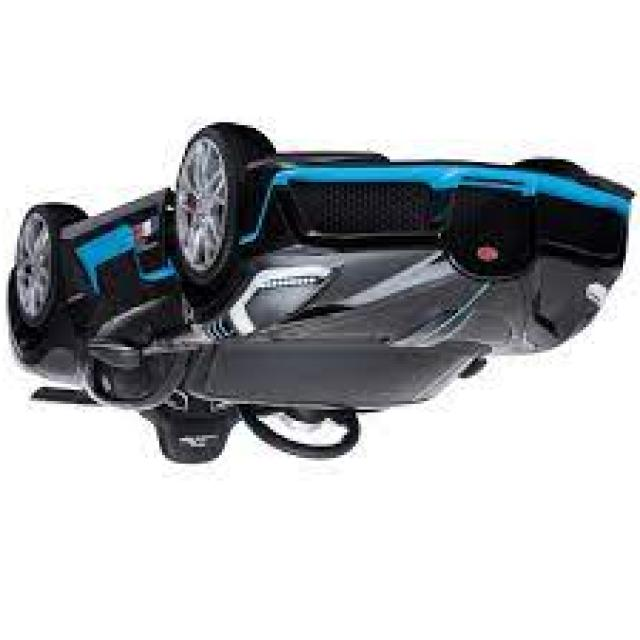Car: (9, 123, 640, 467)
